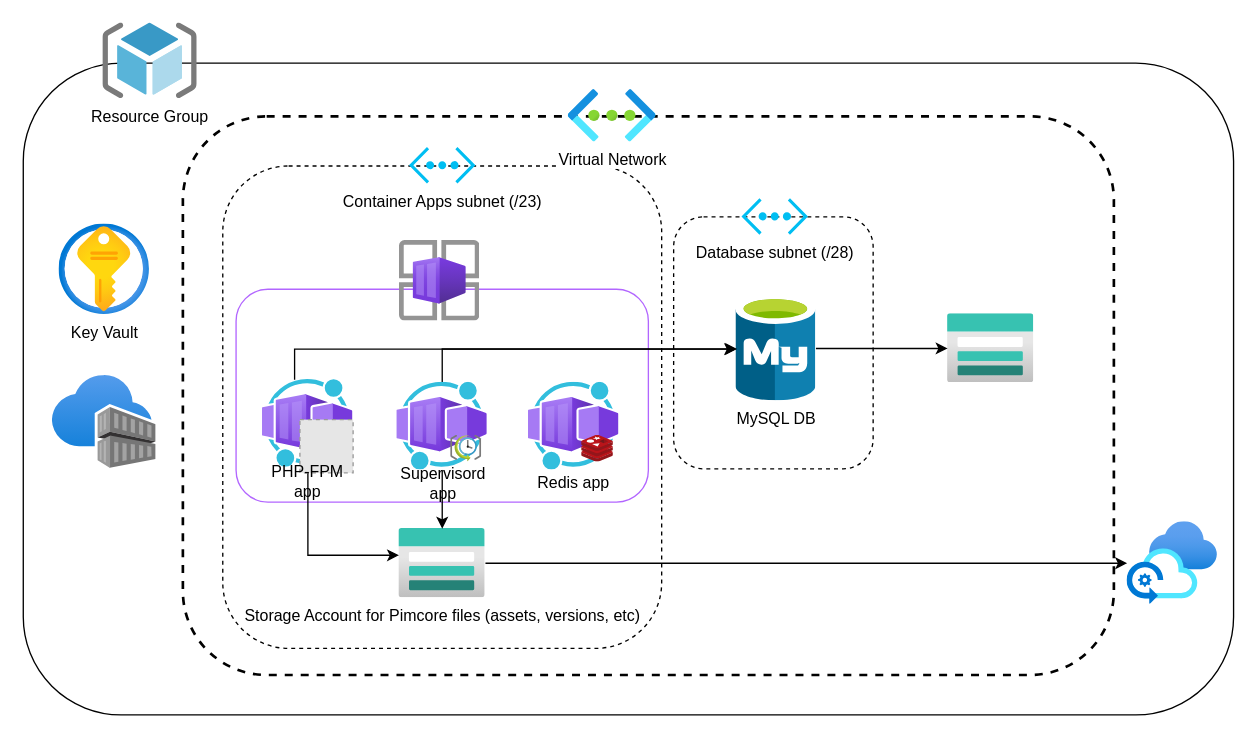
This 1257x738 diagram has some shape labels left out. Grey dashed boxes stand in for pictures. The box of each missing label's shape, as (x1, y1, x2, y2) in pixels:
Backup Vault: (1127, 521, 1217, 604)
Container Apps Environment: (399, 240, 479, 321)
Container Registry: (52, 375, 156, 468)
Storage Account for DB backups: (947, 313, 1033, 382)
